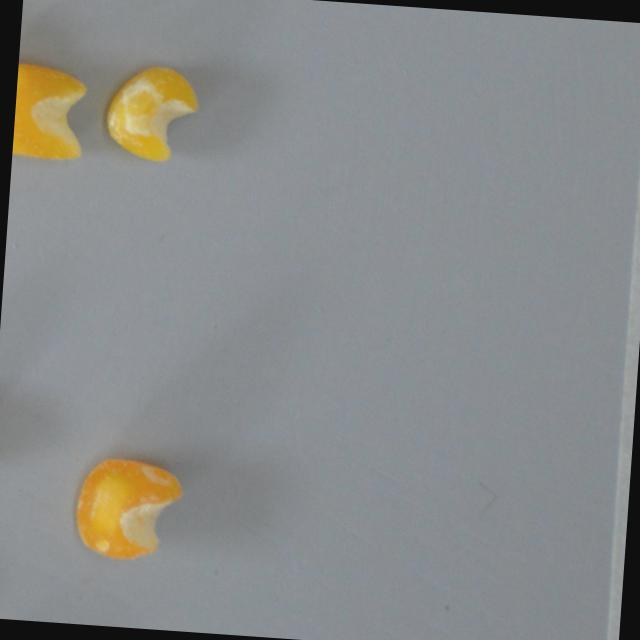pelicula: (69, 449, 190, 568), (99, 58, 203, 166), (11, 60, 92, 163)
